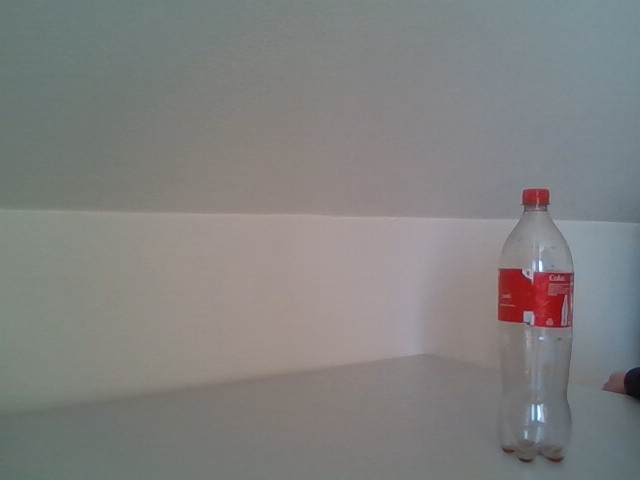bottle: (497, 188, 574, 464)
